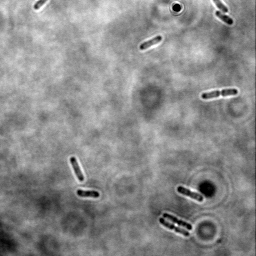Dividing: (159, 216, 191, 238), (162, 211, 193, 231), (175, 184, 205, 203), (200, 87, 240, 101)
Rod: (69, 155, 86, 182), (139, 34, 164, 51), (214, 9, 235, 26), (75, 188, 101, 199)
